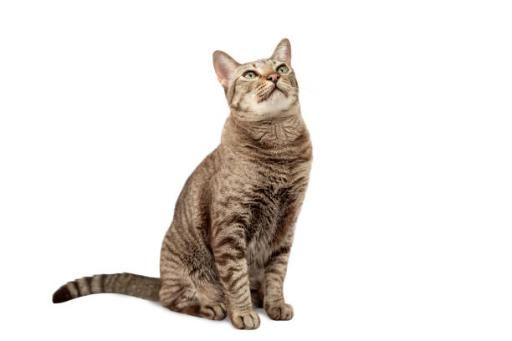cat_sitting: (54, 39, 311, 329)
